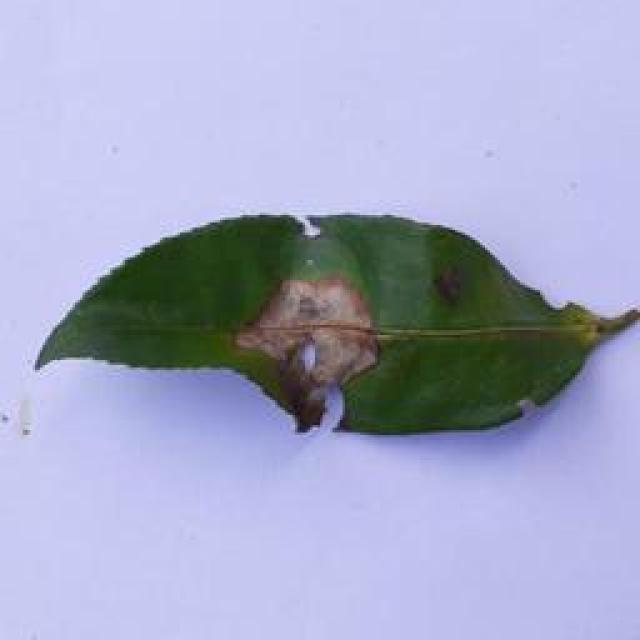Gray Blight: (29, 203, 640, 441)
